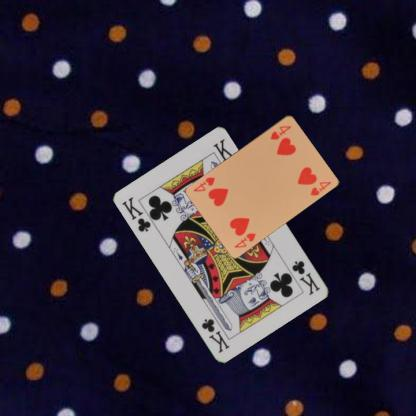4h: (232, 230, 257, 249), (268, 122, 292, 141)
Kc: (120, 194, 152, 234), (289, 258, 322, 296)
